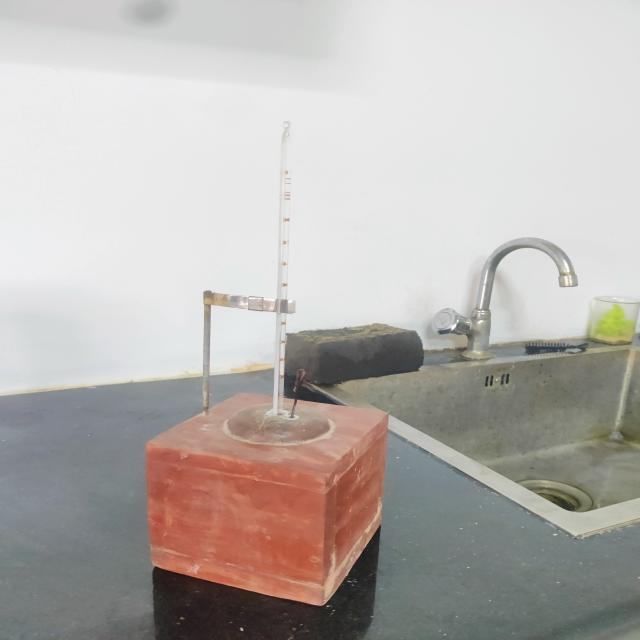Calorimeter: (132, 109, 418, 616)
